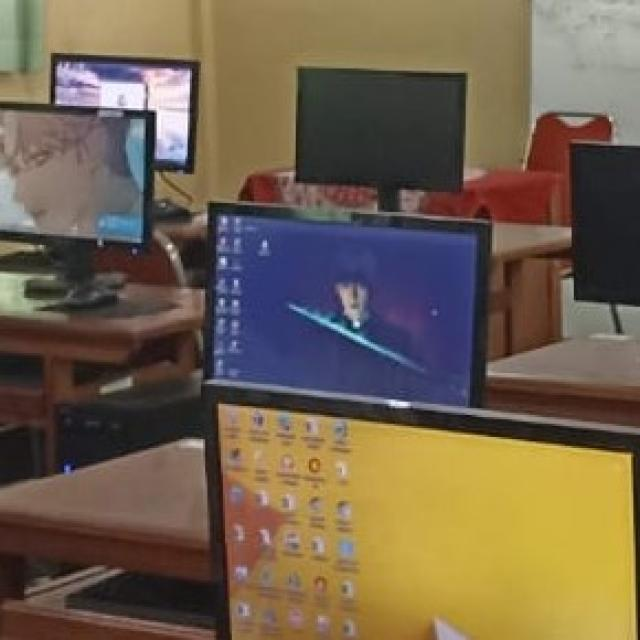offscreen: (298, 71, 464, 189), (573, 144, 640, 304)
onscreen: (219, 407, 638, 640), (208, 206, 489, 406), (0, 104, 153, 243), (51, 56, 197, 172)
